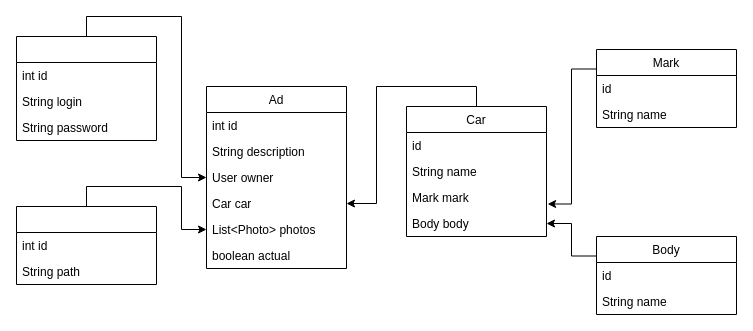
The diagram is 753 pixels wide and 331 high, and some of its shapes have lost their labels. The box of each missing label's shape, as (x1, y1, x2, y2) in pixels:
Photo: (16, 206, 156, 284)
User: (16, 36, 156, 140)
